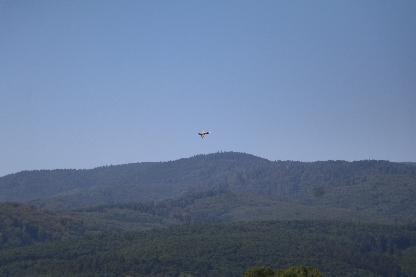JAS39: (198, 128, 210, 138)
